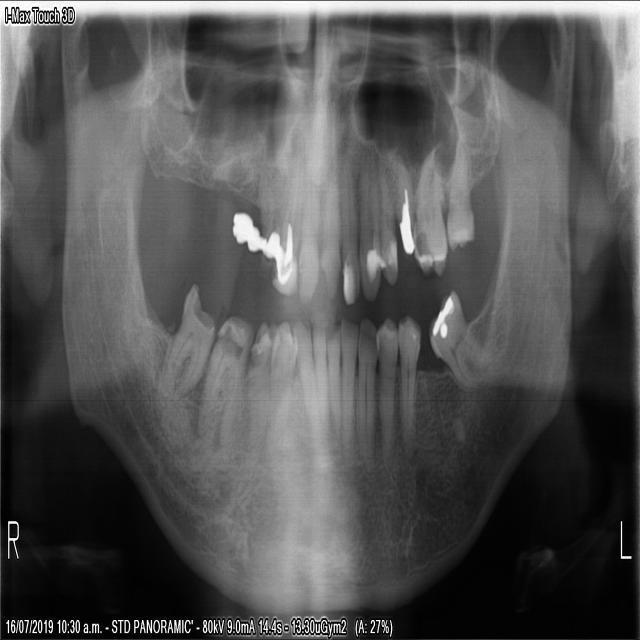LCD: (339, 317, 359, 442)
LCU: (357, 156, 380, 298)
LID: (310, 303, 329, 430), (324, 324, 340, 437)
LIU: (317, 169, 340, 304), (340, 156, 360, 309)
LMD: (426, 276, 485, 392), (395, 308, 420, 456)
LMU: (411, 139, 446, 273), (444, 131, 475, 251)
LPMD: (373, 315, 397, 467), (357, 309, 376, 473)
RCD: (234, 307, 273, 444)
RID: (259, 319, 298, 445), (290, 317, 318, 424)
RIU: (269, 158, 303, 297), (295, 156, 322, 304)
RPMD: (194, 303, 254, 445), (159, 271, 217, 403)
